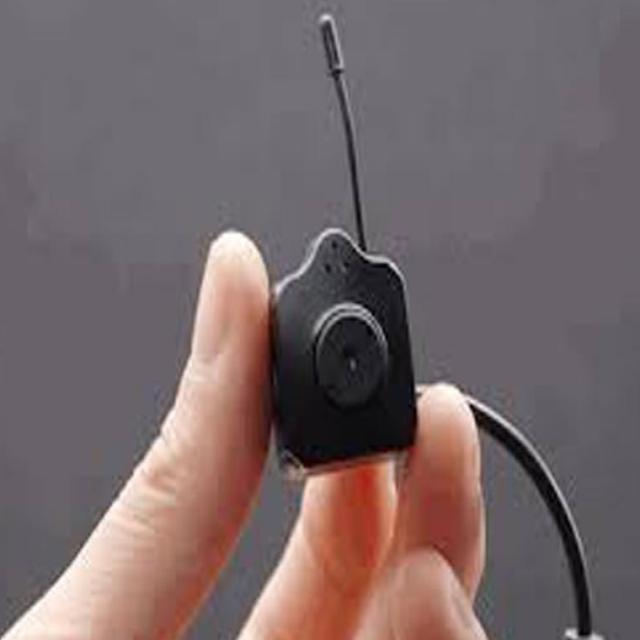hidden camera: (346, 353, 361, 376)
